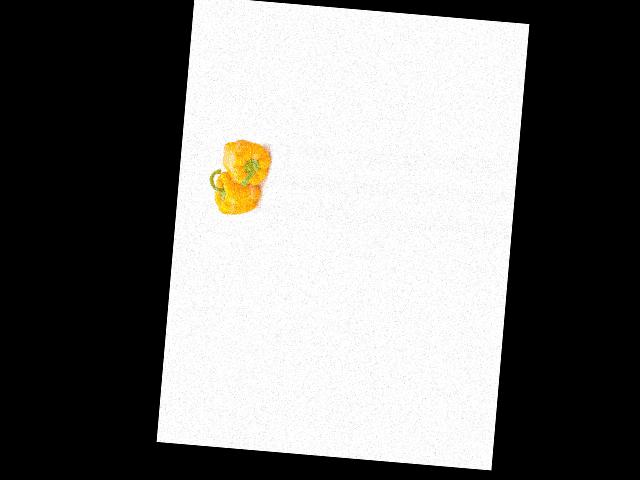bell_pepper: (208, 166, 263, 218)
